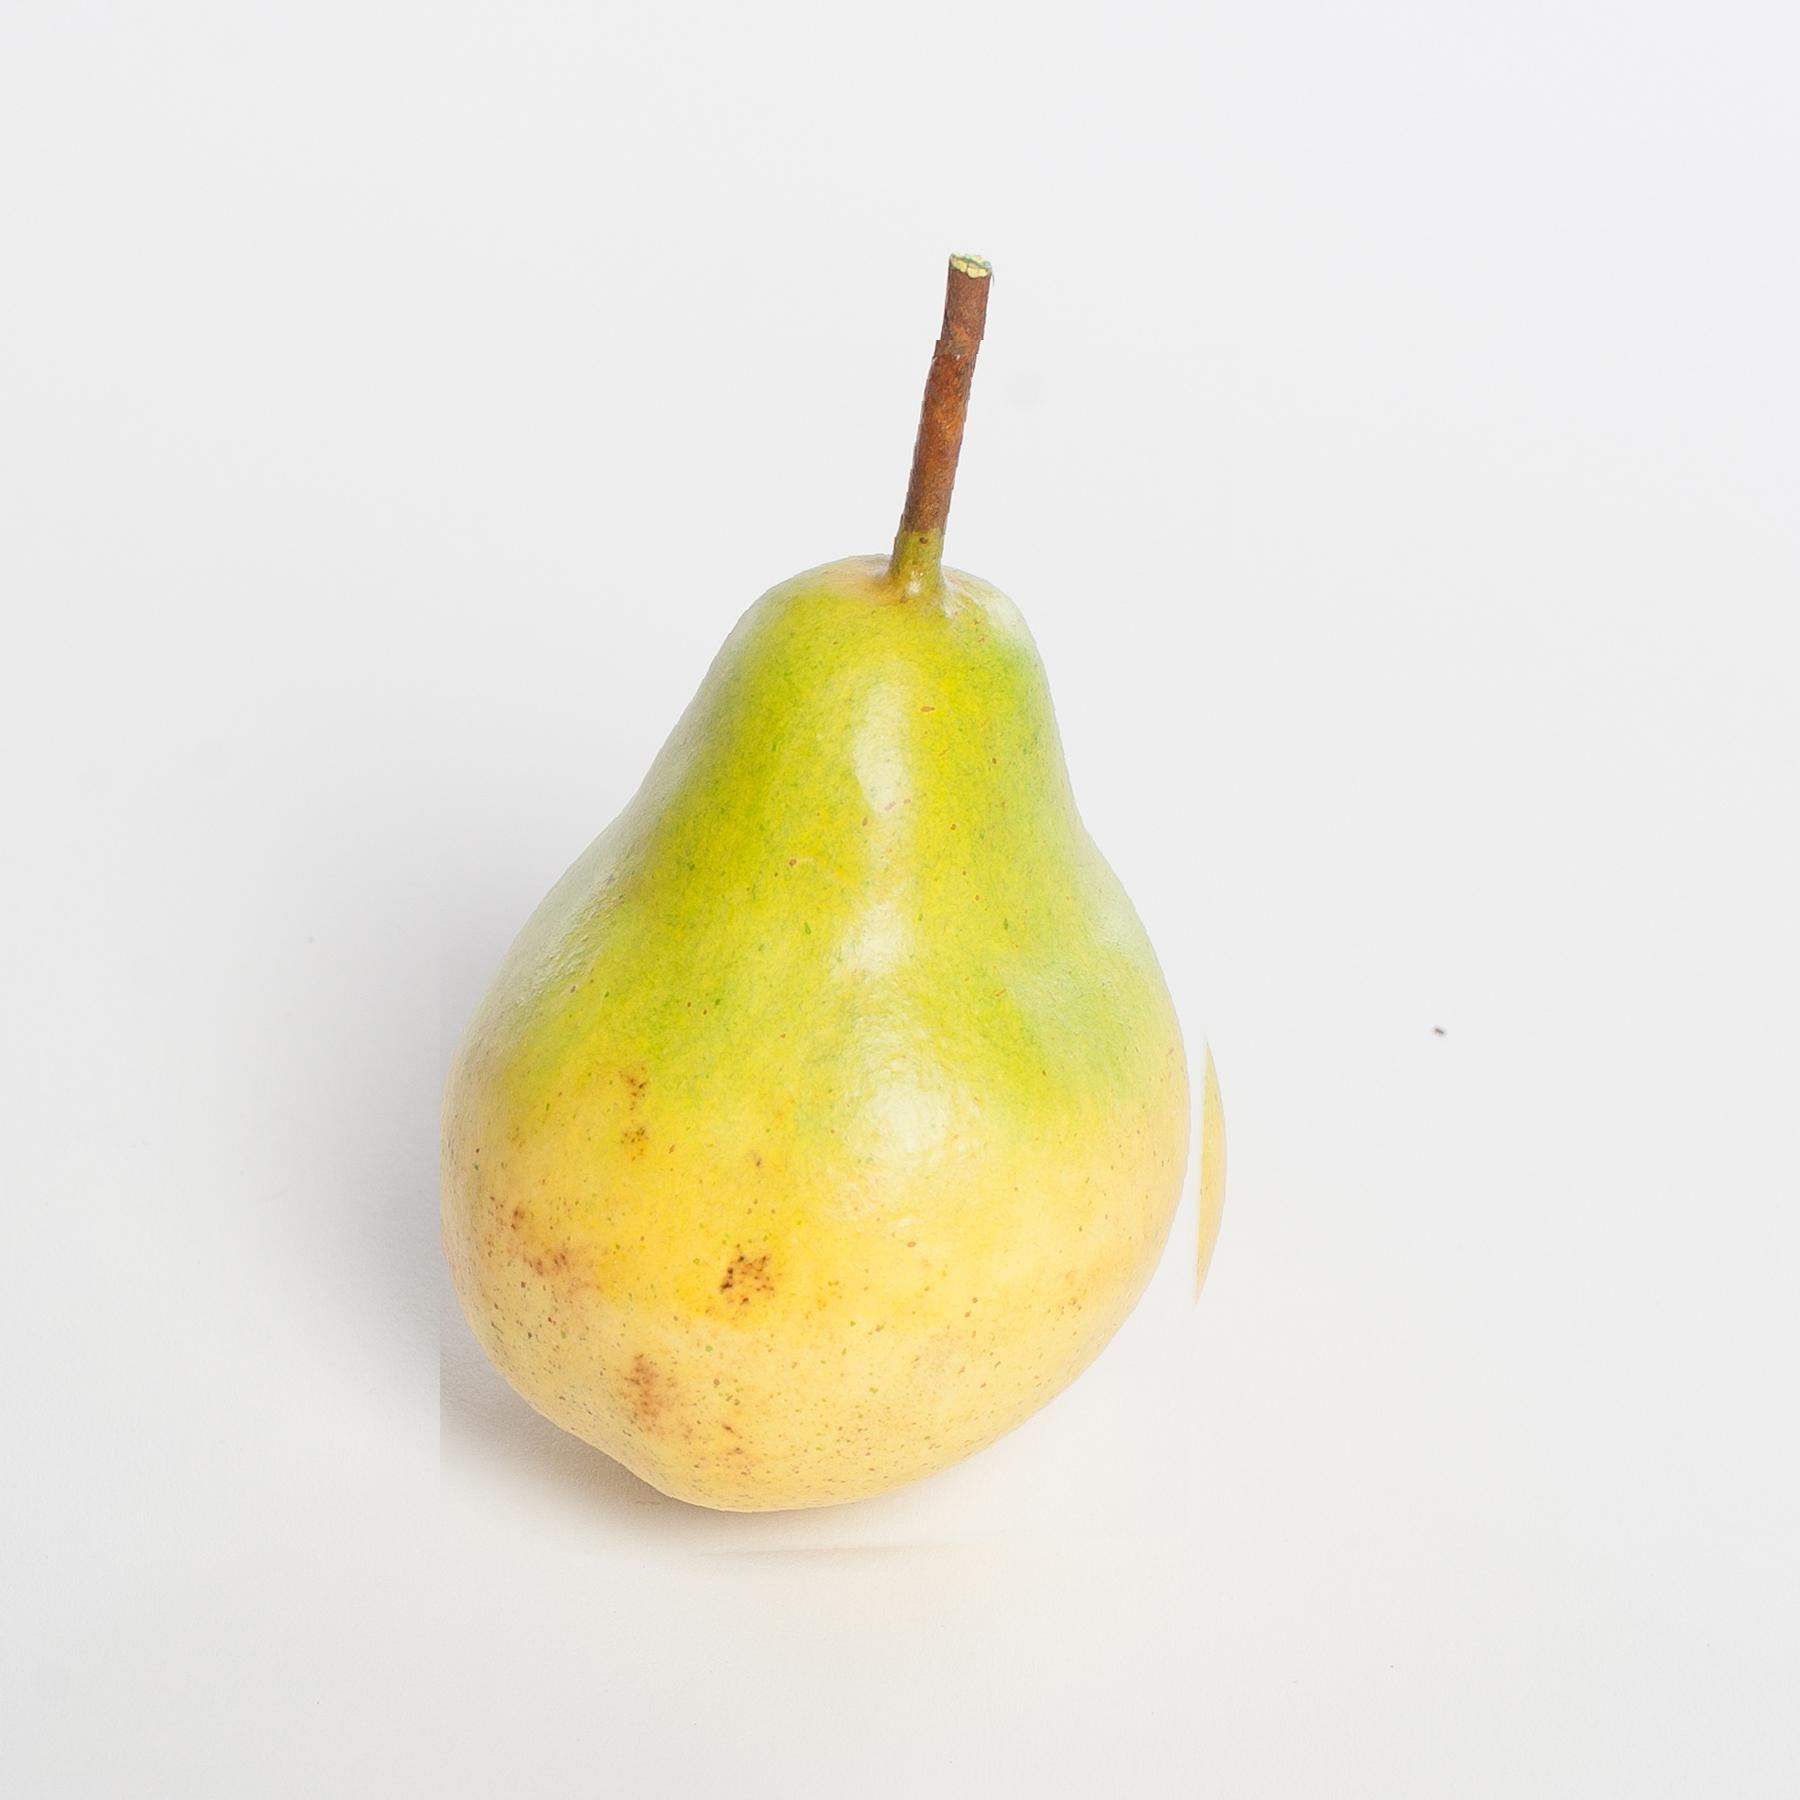Pear Semifresh: (440, 340, 1240, 1564)
